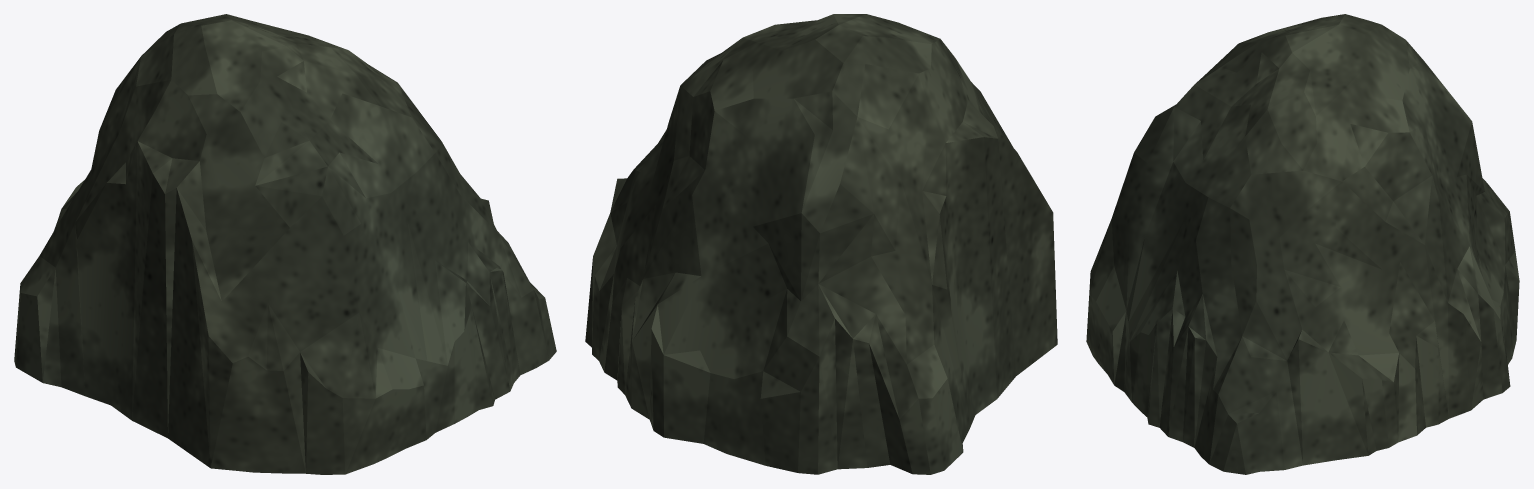
File: CRERock01.glb
3 views of the same model, side by side, from view 1: azimuth 30°, elevation 25°; view 2: azimuth 150°, elevation 25°; view 3: azimuth 270°, elevation 25° (orthographic). The views are drawn at different scales.
Visible parts, largest first — view 1: CRERock01_rock; view 2: CRERock01_rock; view 3: CRERock01_rock.
Boxes of the visible parts, bbox=[...] form: CRERock01_rock: bbox=[14, 14, 556, 474]; CRERock01_rock: bbox=[585, 14, 1057, 474]; CRERock01_rock: bbox=[1086, 14, 1519, 474].
Size of the model in its own units: 4.13 by 3.22 by 3.87.
Materials: 1 (1 with a texture image).
